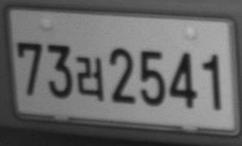1: (201, 54, 228, 110)
2: (109, 47, 136, 104)
3: (47, 44, 72, 98)
4: (169, 52, 198, 108)
5: (140, 50, 165, 106)
7: (16, 42, 42, 96)
러: (75, 56, 104, 102)
